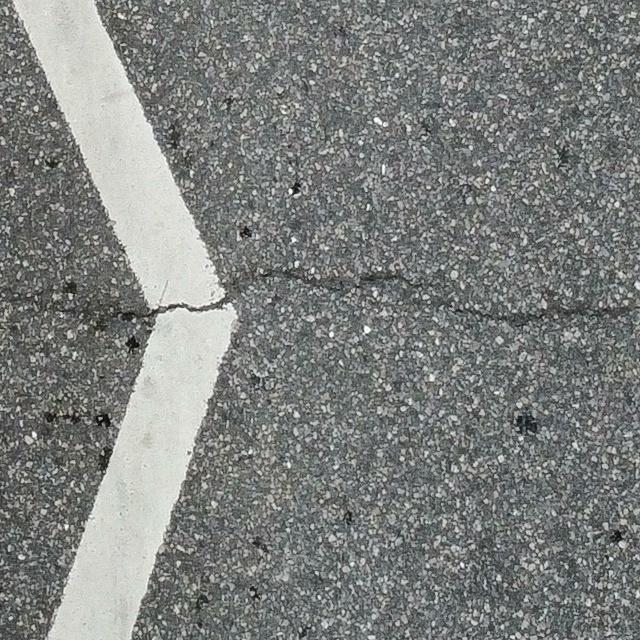TransverseCrack: (118, 269, 424, 325), (455, 300, 640, 330)
